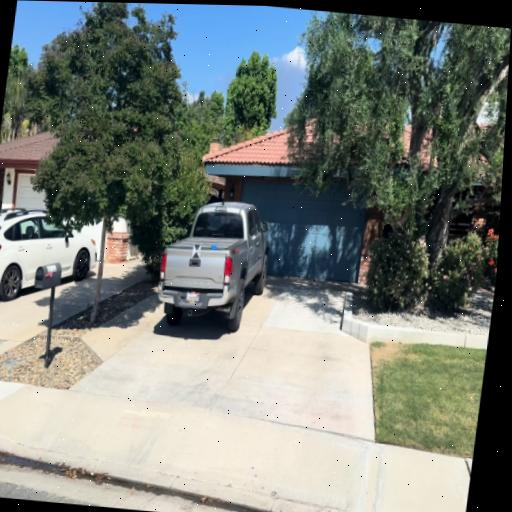target1: (192, 245, 201, 259)
